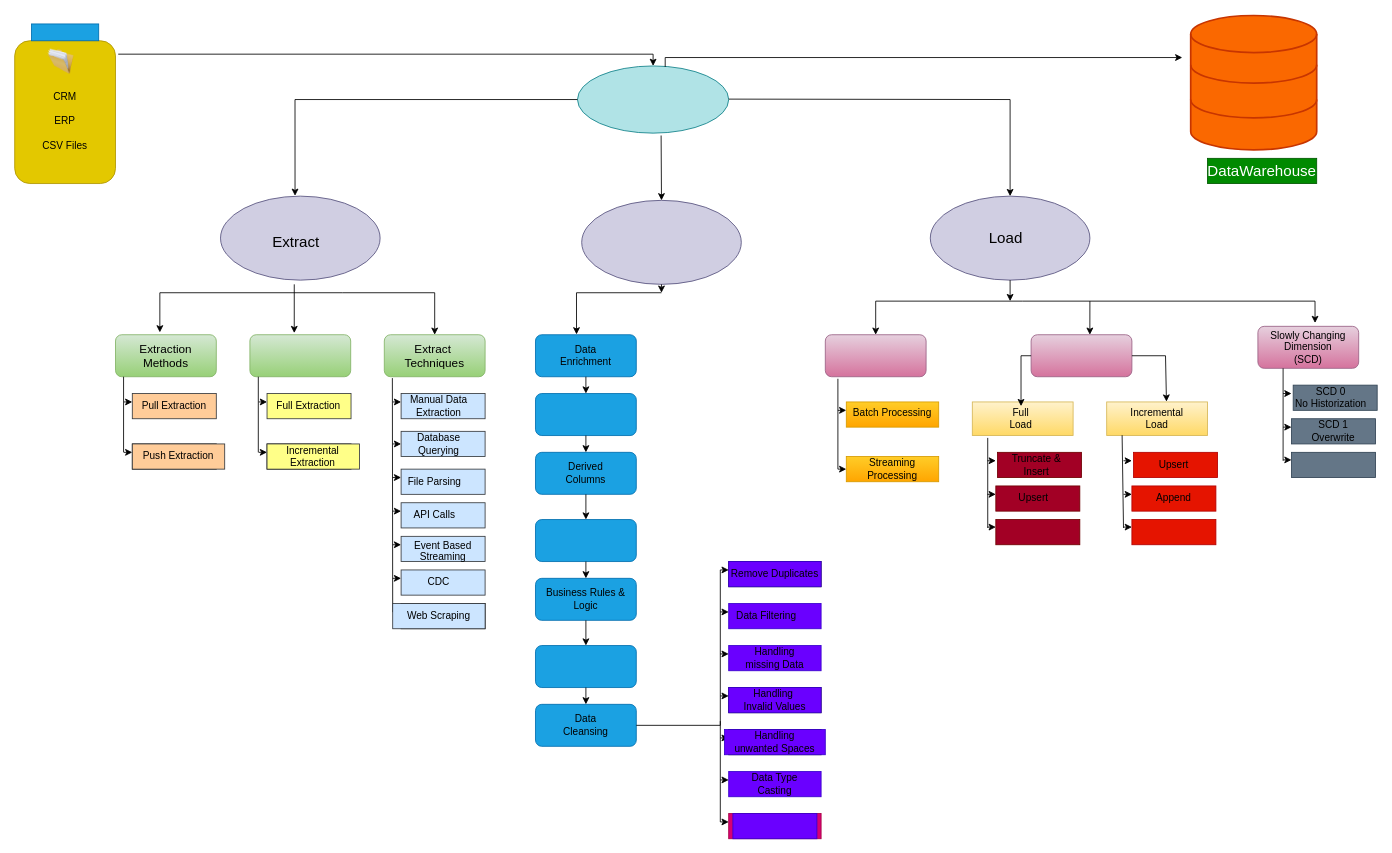
The diagram is 1392 pixels wide and 853 high, and some of its shapes have lost their labels. The centre of each missing label's shape, as x and y in pixels:
"Data Aggregations" belongs at (x=585, y=666).
"Data Integration" belongs at (x=585, y=414).
"Data Normalization & Standardization" belongs at (x=585, y=540).
"Drop,Create,Insert" belongs at (x=1037, y=532).
"ETL" belongs at (x=653, y=99).
"Extract Types" belongs at (x=300, y=355).
"Load Methods" belongs at (x=1081, y=355).
"Merge" belongs at (x=1173, y=532).
"Outlier Detection" belongs at (x=774, y=826).
"Pocessing Types" belongs at (x=875, y=355).
"SCD 2 Historization" belongs at (x=1333, y=465).
"Source" belongs at (x=65, y=32).
"Transformation" belongs at (x=661, y=242).
